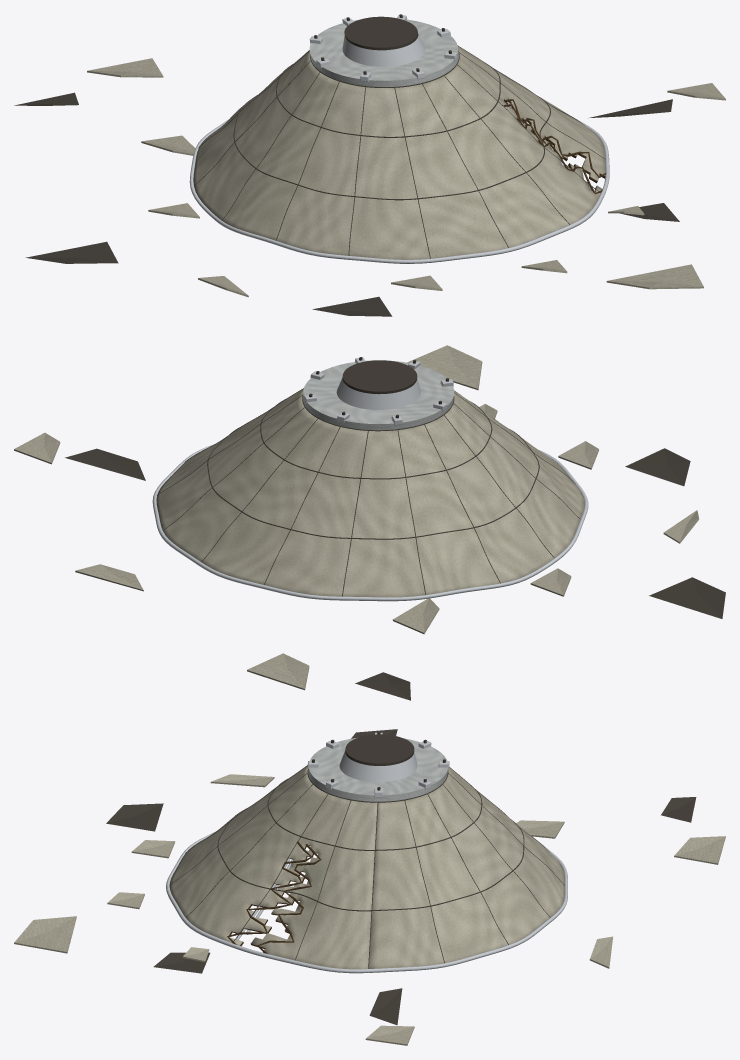
The model's file is backshell.glb.
The picture shows the model from 3 angles, top to bottom: view 1: azimuth 30°, elevation 25°; view 2: azimuth 150°, elevation 25°; view 3: azimuth 270°, elevation 25°; orthographic projection. The views are drawn at different scales.
Parts seen in each view (by area): view 1: backshell-finish-02, backshell-finish-01, backshell-finish-03, backshell-finish-00, backshell-finish-05, backshell-finish-04; view 2: backshell-finish-02, backshell-finish-01, backshell-finish-03, backshell-finish-00, backshell-finish-05; view 3: backshell-finish-02, backshell-finish-01, backshell-finish-03, backshell-finish-00, backshell-finish-05, backshell-finish-04.
Boxes of the visible parts, left/top/right/bottom form: backshell-finish-02: left=193, top=46, right=605, bottom=259; backshell-finish-01: left=14, top=14, right=679, bottom=316; backshell-finish-03: left=87, top=58, right=725, bottom=297; backshell-finish-00: left=189, top=15, right=609, bottom=263; backshell-finish-05: left=309, top=19, right=459, bottom=86; backshell-finish-04: left=502, top=99, right=606, bottom=194; backshell-finish-02: left=156, top=389, right=584, bottom=597; backshell-finish-01: left=65, top=357, right=725, bottom=700; backshell-finish-03: left=14, top=345, right=699, bottom=690; backshell-finish-00: left=152, top=357, right=588, bottom=601; backshell-finish-05: left=302, top=360, right=454, bottom=430; backshell-finish-02: left=169, top=765, right=564, bottom=969; backshell-finish-01: left=106, top=729, right=696, bottom=1025; backshell-finish-03: left=14, top=774, right=725, bottom=1045; backshell-finish-00: left=166, top=732, right=567, bottom=973; backshell-finish-05: left=308, top=737, right=448, bottom=801; backshell-finish-04: left=227, top=841, right=321, bottom=953.
Bounding box in the file's own units: 8.49 × 1.74 × 8.05.
Materials: 5 (3 with a texture image).
